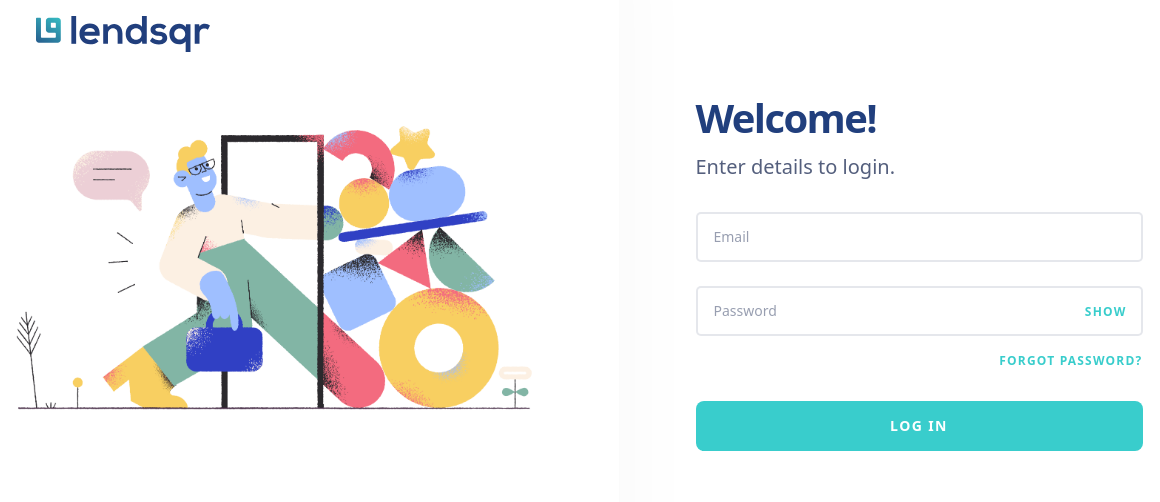
Test case: Login › shows a form-level error when authentication fails
The width and height of the screenshot is (1160, 502).
Type "error@lendsqr.com" into the field labelled "Email". click: coordinates (919, 236)
box: top-left (696, 212), bottom-right (1142, 262)
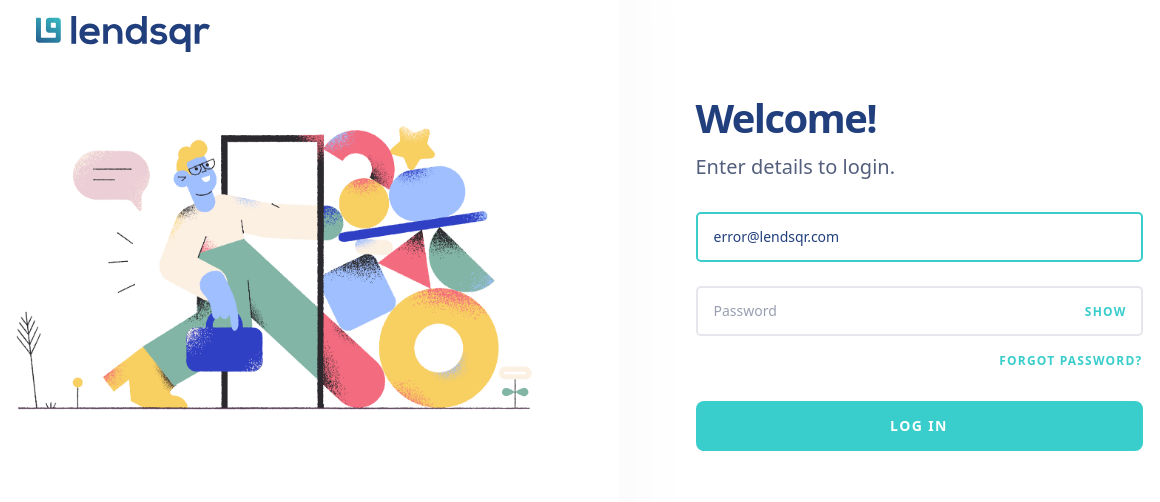
Type "password123" into the password field labelled "Password". click: coordinates (919, 310)
box: top-left (696, 286), bottom-right (1142, 336)
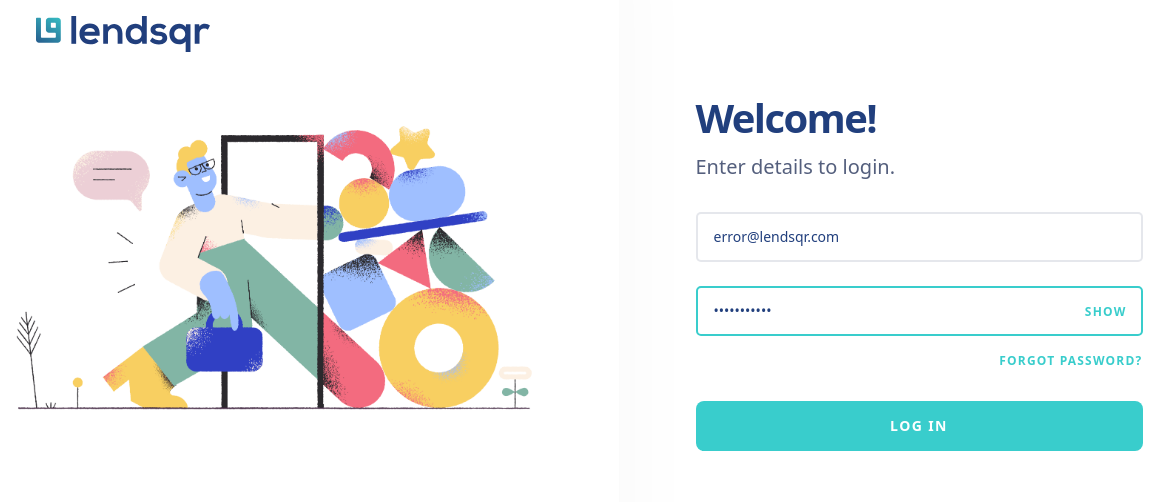
Click the button "LOG IN". click: coordinates (919, 426)
box: top-left (696, 400), bottom-right (1142, 450)
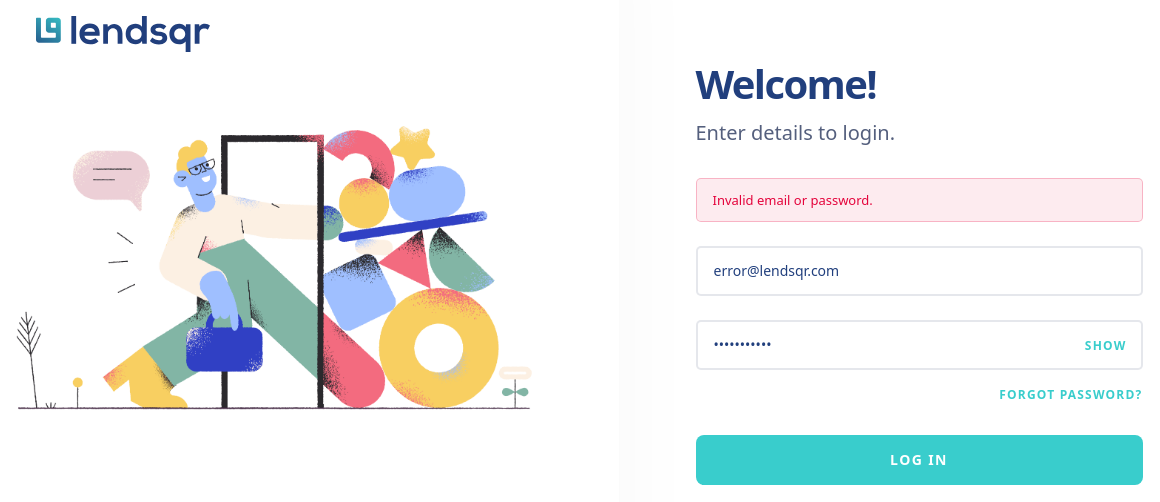
Expected: the message shows "Invalid email or password", top-left (712, 190), bottom-right (873, 208)
